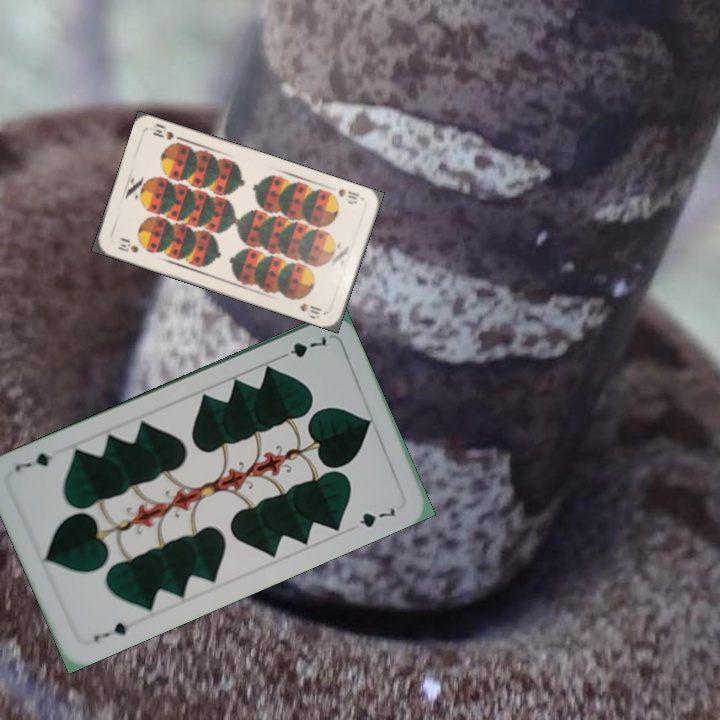G7: (275, 332, 330, 362), (89, 618, 131, 645)
S10: (334, 184, 362, 206), (114, 235, 141, 255)
